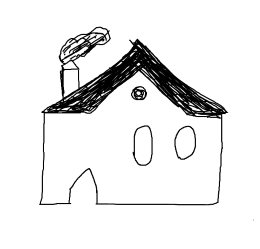door: (62, 162, 103, 210)
open_window: (129, 121, 159, 170), (170, 122, 198, 161)
shaded_roof: (42, 38, 229, 118)
smoking_chimney: (48, 21, 116, 101)
wall: (35, 110, 225, 211)
